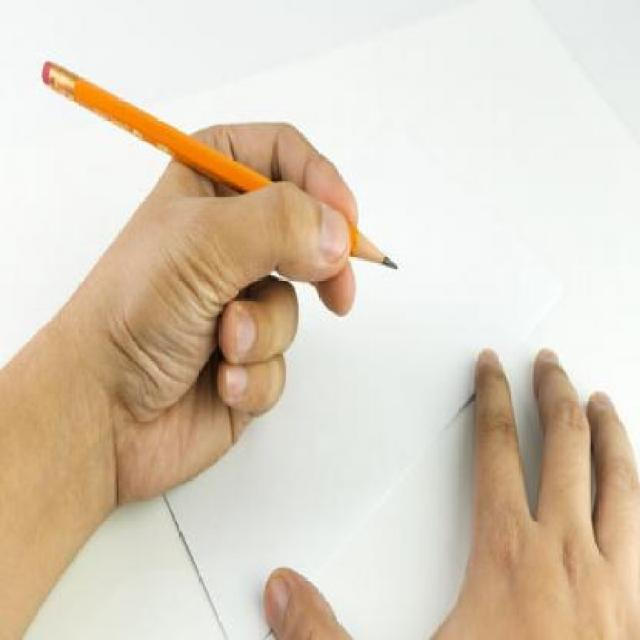pencil: (347, 219, 401, 279)
